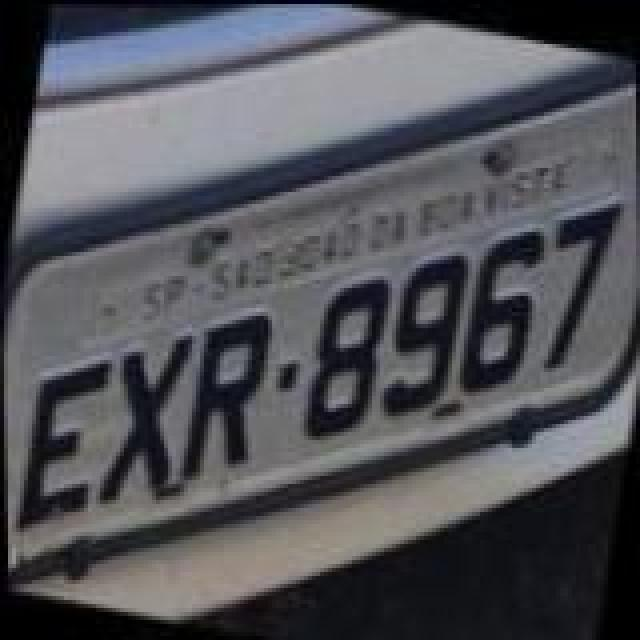6: (450, 210, 554, 402)
7: (528, 184, 628, 380)
8: (296, 264, 396, 448)
9: (376, 236, 476, 424)
E: (6, 342, 114, 546)
R: (174, 298, 282, 494)
X: (90, 322, 198, 522)
